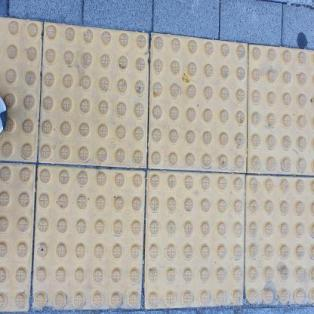Podoctatil: (0, 11, 313, 313)
